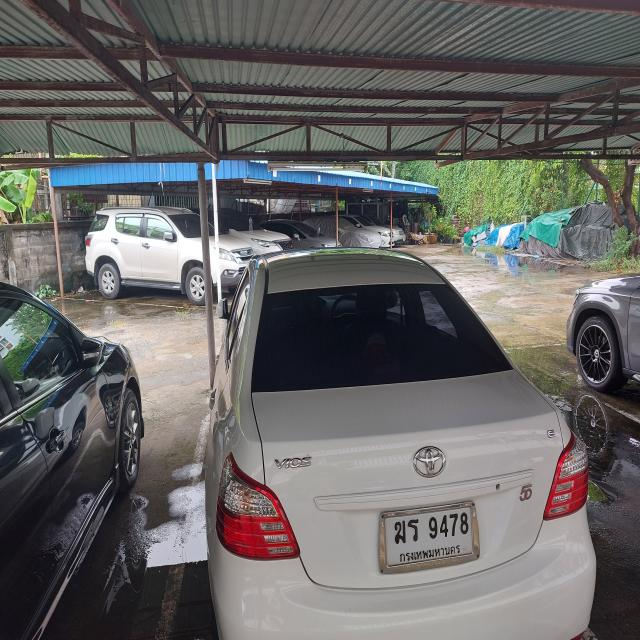license_plate: (377, 498, 481, 578)
